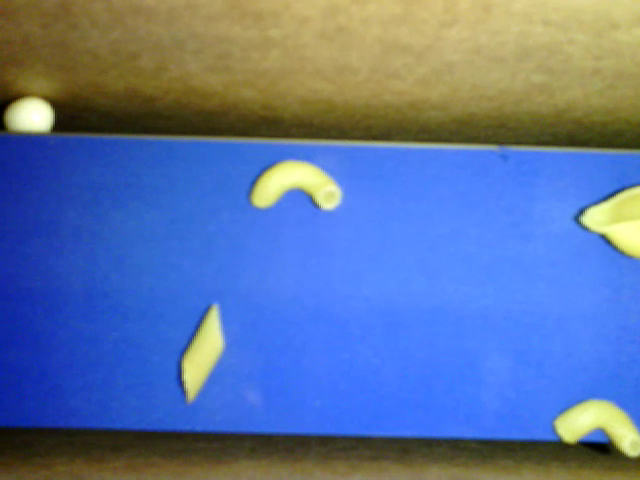elbow: (552, 398, 639, 456), (249, 159, 341, 211)
penne: (177, 302, 227, 404)
shell: (578, 183, 639, 259)
